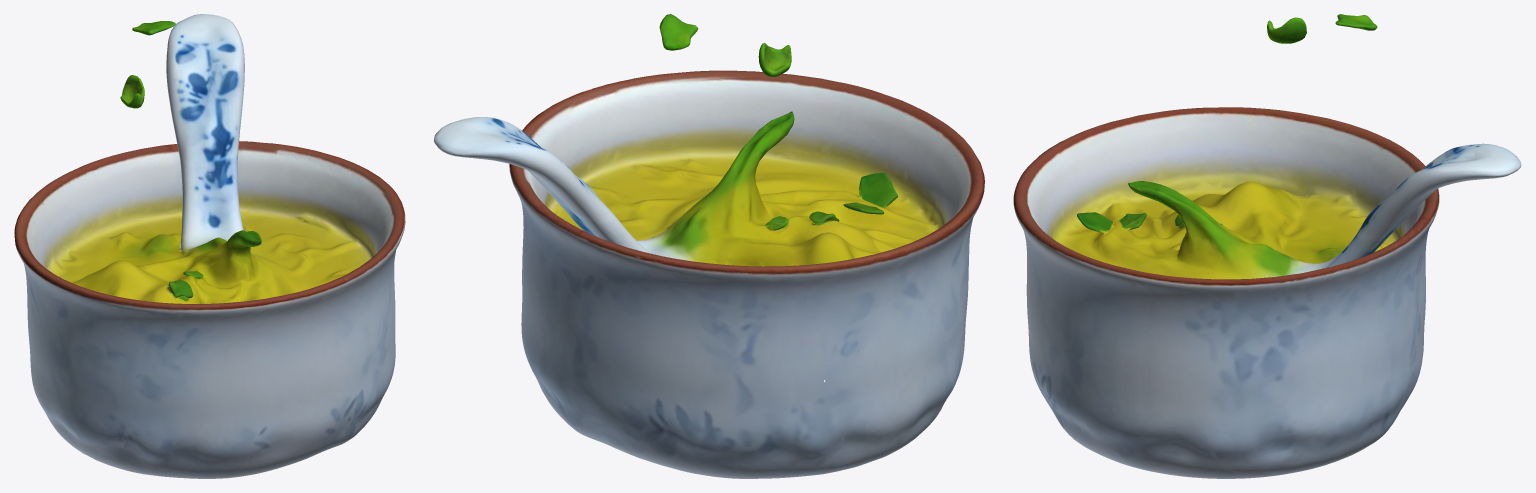
The model's file is broth.glb.
3 renders of one model, left to right at view 1: azimuth 30°, elevation 25°; view 2: azimuth 150°, elevation 25°; view 3: azimuth 270°, elevation 25°, orthographic. The views are drawn at different scales.
Visible parts, largest first — view 1: tripo_node_a65f67c2-18b1-4fec-b220-45df0b2261ec; view 2: tripo_node_a65f67c2-18b1-4fec-b220-45df0b2261ec; view 3: tripo_node_a65f67c2-18b1-4fec-b220-45df0b2261ec.
Part boxes in pixels (left/top/right/bottom): tripo_node_a65f67c2-18b1-4fec-b220-45df0b2261ec: left=14, top=14, right=405, bottom=478; tripo_node_a65f67c2-18b1-4fec-b220-45df0b2261ec: left=434, top=14, right=984, bottom=478; tripo_node_a65f67c2-18b1-4fec-b220-45df0b2261ec: left=1013, top=14, right=1521, bottom=478.
Size of the model in its own units: 0.8569 by 0.8667 by 0.9802.
1 material, 1 textured.
